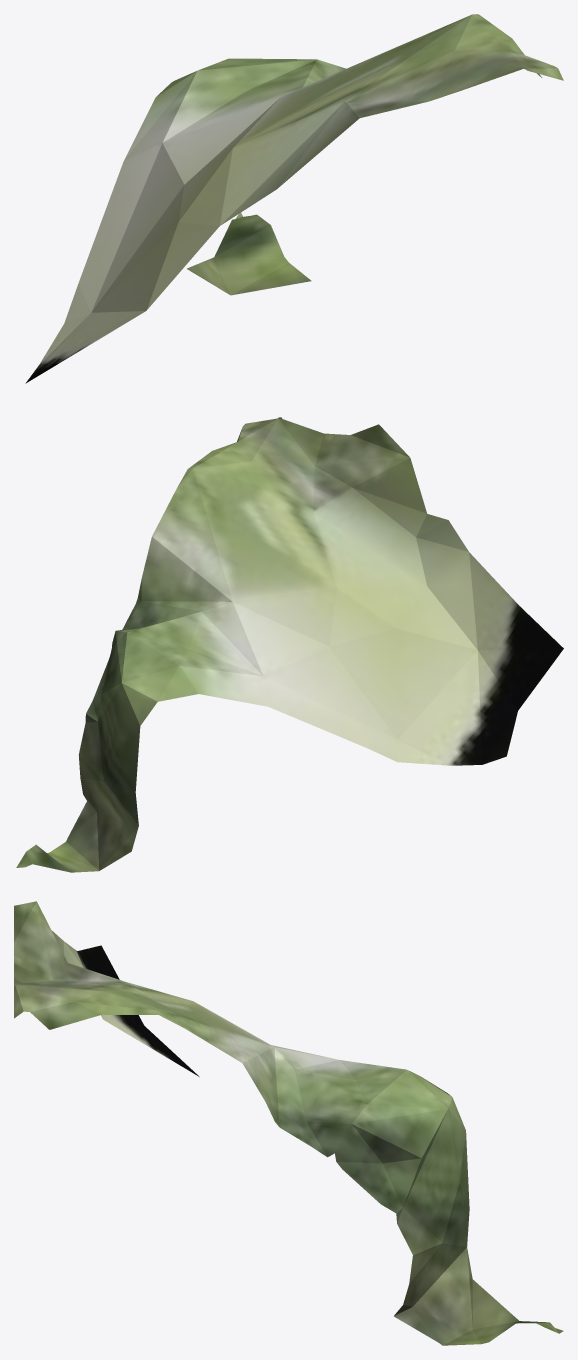
The picture shows the model from 3 angles, top to bottom: view 1: azimuth 30°, elevation 25°; view 2: azimuth 150°, elevation 25°; view 3: azimuth 270°, elevation 25°; orthographic projection. The views are drawn at different scales.
Bounding box in the file's own units: 31.79 × 27.91 × 36.93.
1 material, 1 textured.
